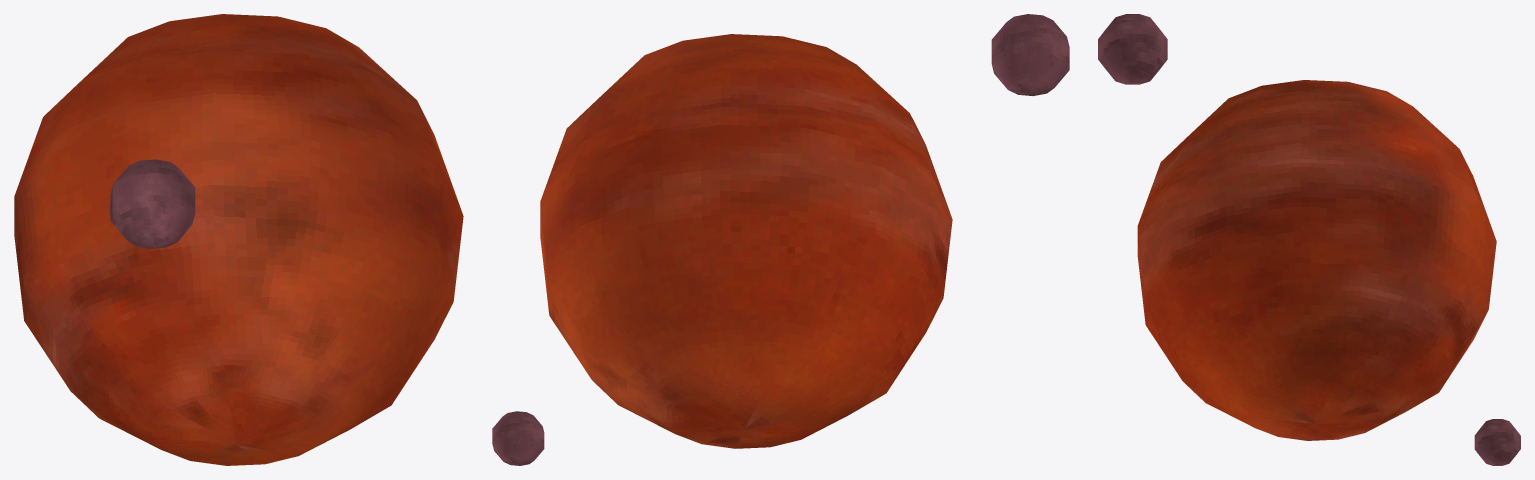
Rendered from ps2_save-icons_dune.glb.
3 views of the same model, side by side, from view 1: azimuth 30°, elevation 25°; view 2: azimuth 150°, elevation 25°; view 3: azimuth 270°, elevation 25° (orthographic). The views are drawn at different scales.
Visible parts, largest first — view 1: static.icn; view 2: static.icn; view 3: static.icn.
Boxes of the visible parts, left/top/right/bottom form: static.icn: left=14, top=14, right=463, bottom=465; static.icn: left=492, top=14, right=1069, bottom=465; static.icn: left=1098, top=14, right=1520, bottom=465.
Size of the model in its own units: 1.63 by 1.5 by 1.74.
Materials: 1 (1 with a texture image).
